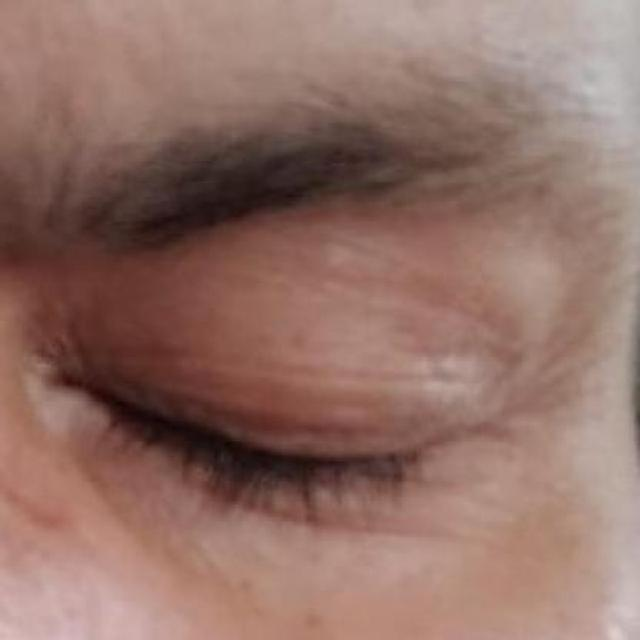drowsy: (65, 289, 489, 582)
